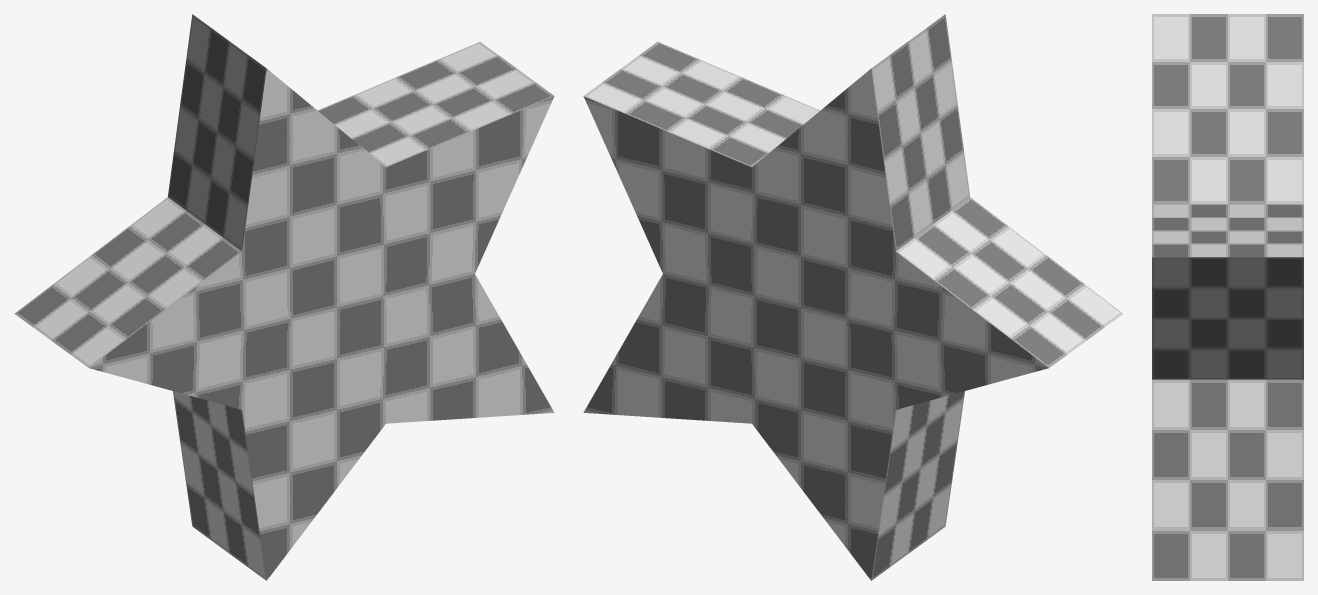
File: 6_star.obj
3 renders of one model, left to right at view 1: azimuth 30°, elevation 25°; view 2: azimuth 150°, elevation 25°; view 3: azimuth 270°, elevation 25°, orthographic. The views are drawn at different scales.
Parts seen in each view (by area): view 1: Star.001; view 2: Star.001; view 3: Star.001.
Boxes of the visible parts, <box> form: Star.001: <box>14,14,554,580</box>; Star.001: <box>583,14,1123,580</box>; Star.001: <box>1152,14,1303,580</box>.
Size of the model in its own units: 1.81 by 1.9 by 0.5.
Materials: 1 (1 with a texture image).
